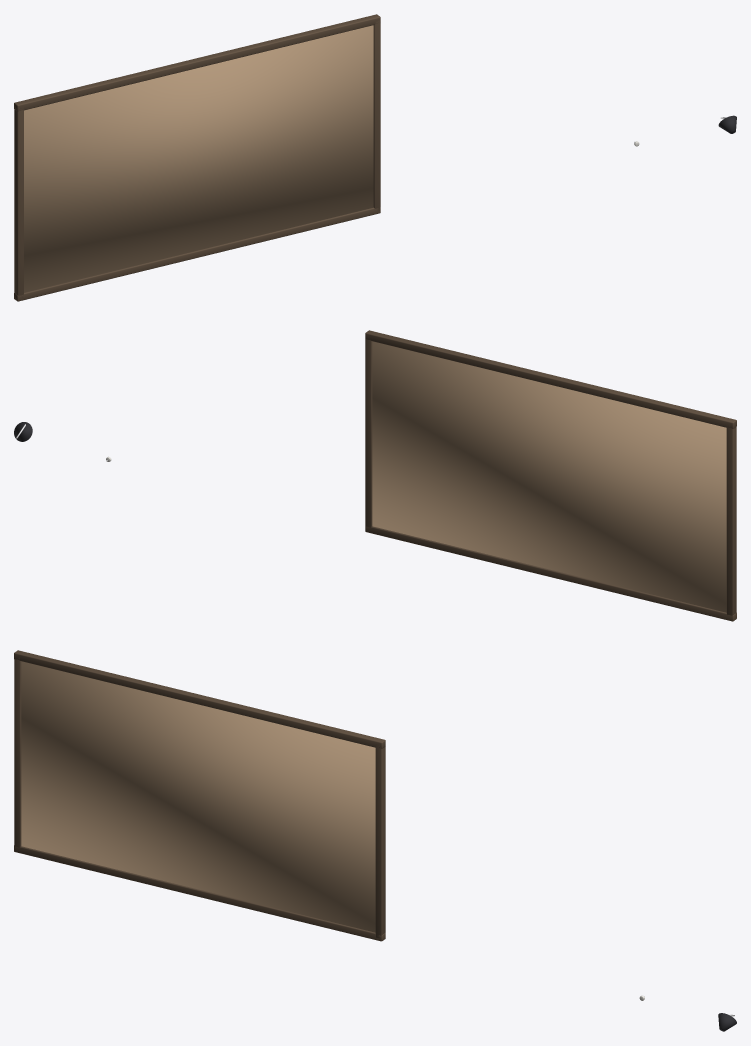
3 renders of one model, top to bottom at view 1: azimuth 30°, elevation 25°; view 2: azimuth 150°, elevation 25°; view 3: azimuth 330°, elevation 25°, orthographic.
Visible parts, largest first — view 1: board, frame_t, frame_b, frame_l, frame_r; view 2: board, frame_t, frame_b, frame_l, frame_r; view 3: board, frame_t, frame_b, frame_r, frame_l.
Part boxes in pixels (<box>): board: <box>24,25,373,292</box>; frame_t: <box>14,14,380,111</box>; frame_b: <box>14,207,380,301</box>; frame_l: <box>14,107,23,298</box>; frame_r: <box>373,20,380,210</box>; board: <box>372,341,726,612</box>; frame_t: <box>365,330,736,428</box>; frame_b: <box>365,526,736,621</box>; frame_l: <box>726,424,736,615</box>; frame_r: <box>365,339,372,527</box>; board: <box>21,661,375,932</box>; frame_t: <box>14,650,385,748</box>; frame_b: <box>14,845,385,941</box>; frame_r: <box>375,744,385,938</box>; frame_l: <box>14,656,21,850</box>.
Bounding box in the file's own units: 16.35 × 4.29 × 0.5212.
